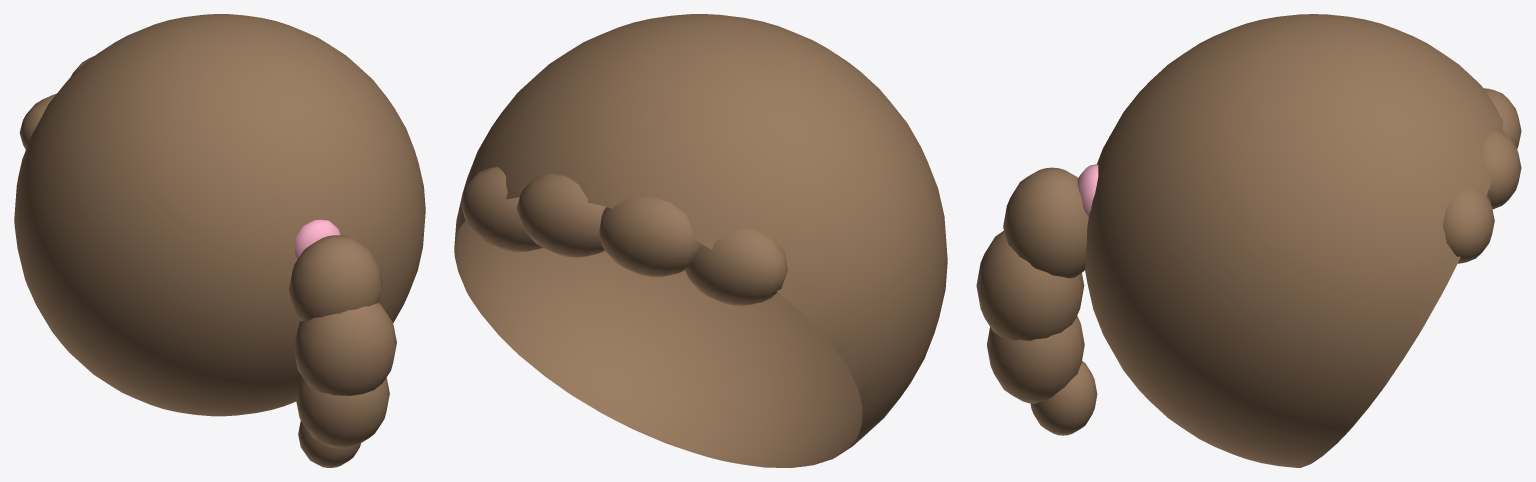
Rendered from ponytail.glb.
3 renders of one model, left to right at view 1: azimuth 30°, elevation 25°; view 2: azimuth 150°, elevation 25°; view 3: azimuth 270°, elevation 25°, orthographic. The views are drawn at different scales.
Visible parts, largest first — view 1: Head; view 2: Head; view 3: Head.
Part boxes in pixels (x1,y1,x2,y2): Head: [14, 14, 425, 467]; Head: [454, 14, 947, 467]; Head: [976, 14, 1521, 467].
Bounding box in the file's own units: 0.4066 × 0.3934 × 0.4755.
